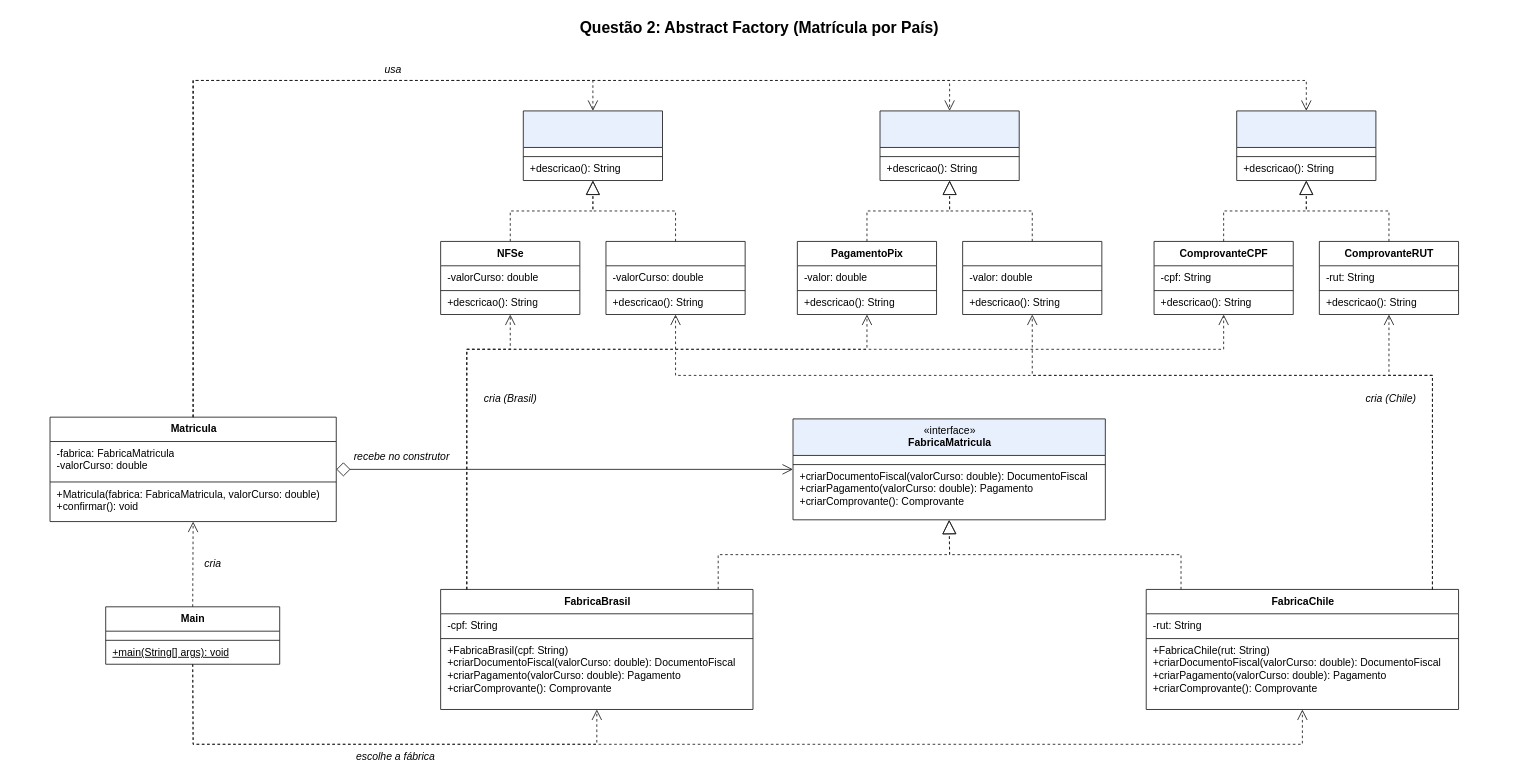
Some shapes in this 1516 by 779 pixel diagram are drawn without their labels. The shapes that lost their labels are listed below. From the top down, each one's box as (x1, y1, x2, y2) in pixels, then its label:
(522, 110, 663, 181): «interface» DocumentoFiscal
(879, 110, 1019, 181): «interface» Pagamento
(1236, 110, 1376, 181): «interface» Comprovante
(605, 241, 745, 315): BoletaElectronica
(962, 241, 1102, 315): PagamentoWebpay
